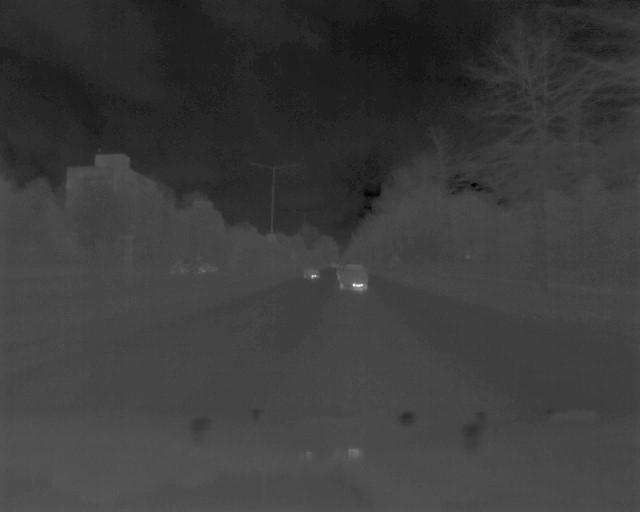car: (337, 262, 369, 291)
